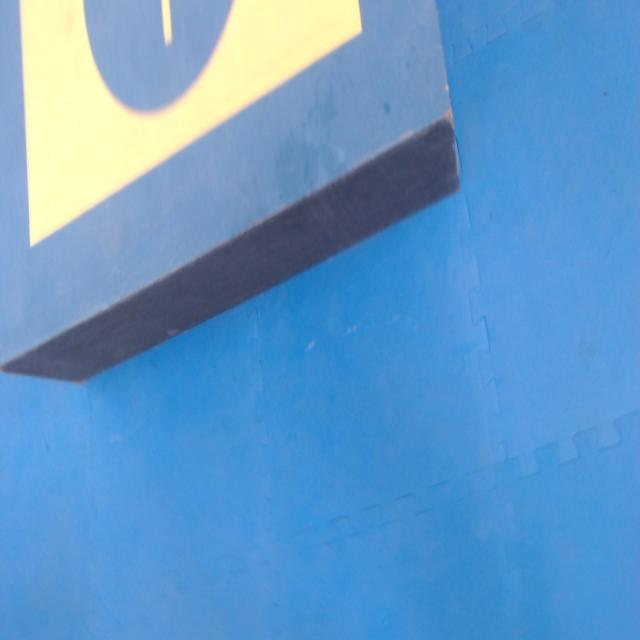base_inicio: (18, 0, 362, 249)
